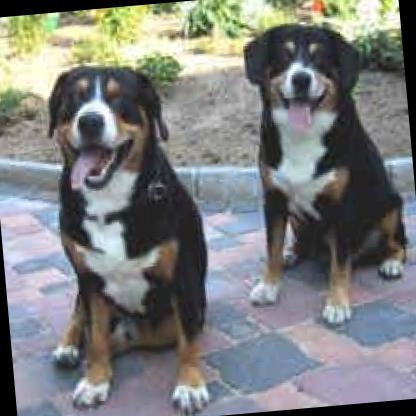EntleBucher: (26, 55, 218, 416), (224, 8, 413, 334)
